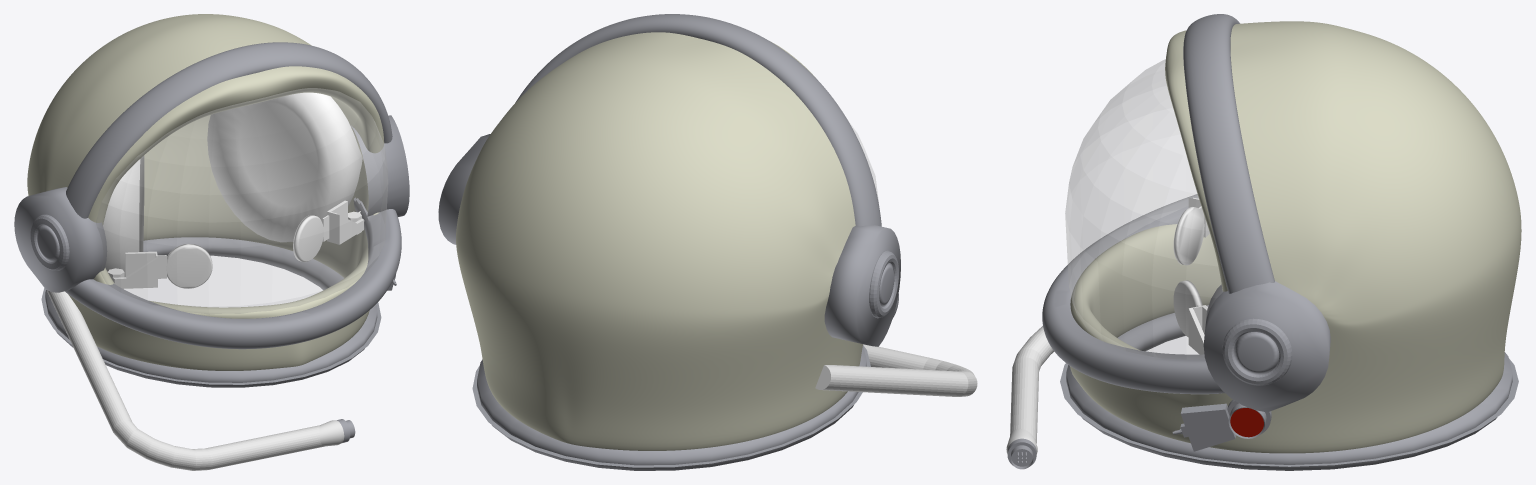
The model's file is SHLEM_NTO_4.glb.
The picture shows the model from 3 angles, left to right: view 1: azimuth 30°, elevation 25°; view 2: azimuth 150°, elevation 25°; view 3: azimuth 270°, elevation 25°; orthographic projection. The views are drawn at different scales.
Parts seen in each view (by area): view 1: Sphere.003, 01, Cylinder.017, Circle, Circle.001, Cylinder.006, Cylinder.001, Cylinder.004, Cylinder.014, Cylinder, Cylinder.002, Cube.004 (+3 smaller); view 2: 01, Circle.001, Cylinder.006, Cylinder.004, Cylinder.001, Cylinder.002, Torus.001; view 3: 01, Sphere.003, Circle.001, Cylinder.006, Circle, Cylinder.002, Cylinder.001, Cylinder.018, Torus.002, Cube.004, Cylinder.014, Cylinder.007 (+2 smaller).
Boxes of the visible parts, bbox=[...] form: Sphere.003: bbox=[96, 88, 387, 314]; 01: bbox=[27, 14, 384, 370]; Cylinder.017: bbox=[207, 92, 362, 242]; Circle: bbox=[65, 197, 401, 349]; Circle.001: bbox=[66, 42, 392, 218]; Cylinder.006: bbox=[41, 237, 381, 387]; Cylinder.001: bbox=[47, 290, 324, 470]; Cylinder.004: bbox=[14, 187, 107, 292]; Cylinder.014: bbox=[108, 243, 212, 288]; Cylinder: bbox=[103, 155, 144, 276]; Cylinder.002: bbox=[350, 115, 409, 216]; Cube.004: bbox=[293, 200, 364, 262]; 01: bbox=[456, 32, 862, 450]; Circle.001: bbox=[515, 14, 881, 226]; Cylinder.006: bbox=[472, 345, 870, 470]; Cylinder.004: bbox=[824, 225, 900, 346]; Cylinder.001: bbox=[815, 344, 977, 396]; Cylinder.002: bbox=[438, 134, 490, 244]; Torus.001: bbox=[869, 250, 898, 318]; 01: bbox=[1070, 21, 1521, 453]; Sphere.003: bbox=[1065, 59, 1222, 359]; Circle.001: bbox=[1183, 14, 1274, 293]; Cylinder.006: bbox=[1060, 305, 1518, 470]; Circle: bbox=[1042, 194, 1224, 394]; Cylinder.002: bbox=[1203, 281, 1330, 412]; Cylinder.001: bbox=[1010, 326, 1054, 443]; Cylinder.018: bbox=[1172, 400, 1271, 451]; Torus.002: bbox=[1222, 318, 1292, 385]; Cube.004: bbox=[1173, 280, 1207, 354]; Cylinder.014: bbox=[1173, 197, 1209, 265]; Cylinder.007: bbox=[1233, 332, 1279, 375].
Size of the model in its own units: 8.74 by 7.89 by 8.78.
